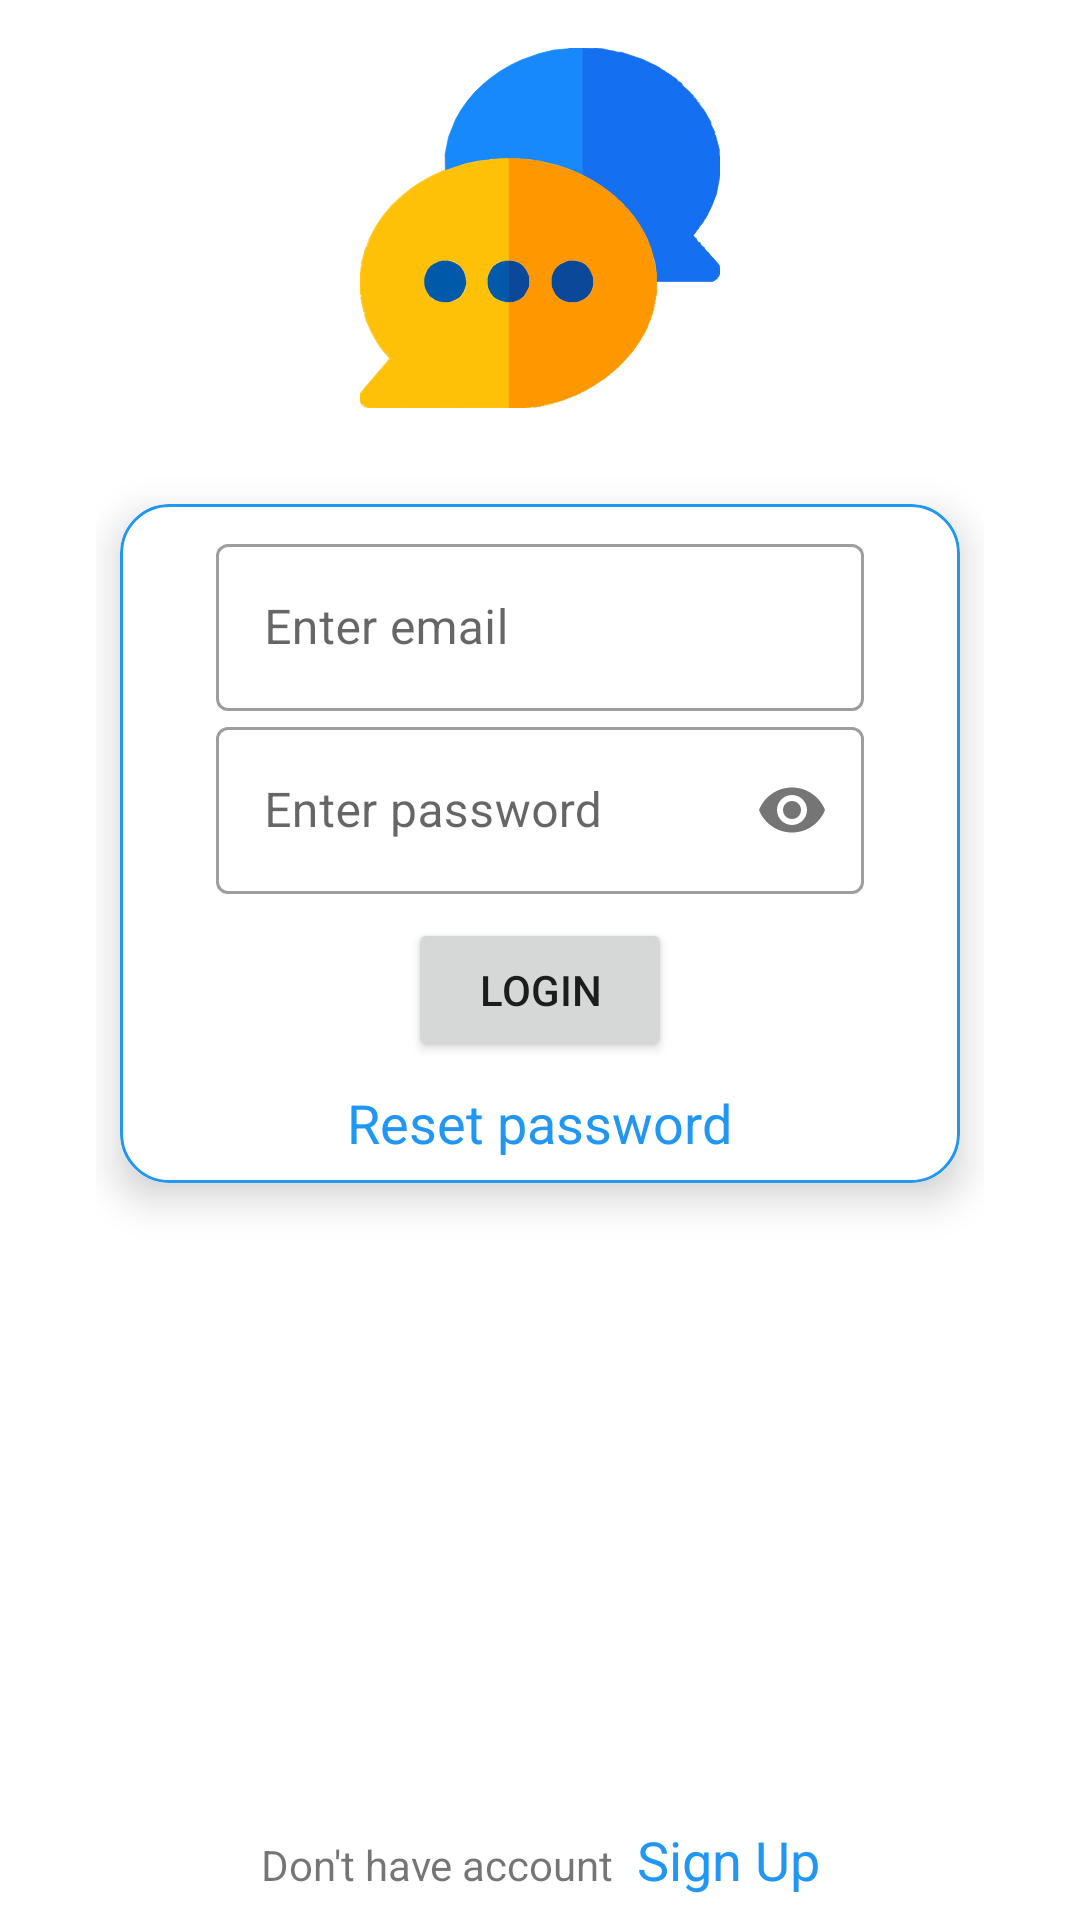

Icon bounding boxes for this 1080 × 1920 phone screenshot, format (x1, y1, x2, y2):
chat: (360, 48, 720, 408)
